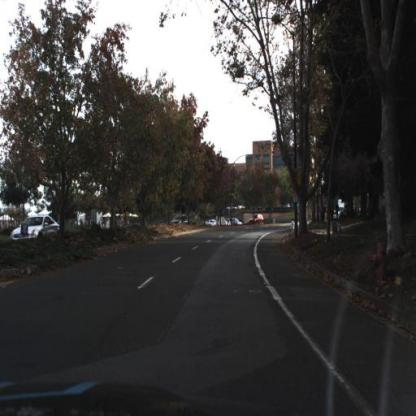car: (13, 215, 64, 249), (170, 211, 195, 230)
